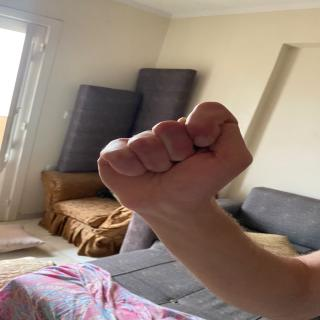FAA: (92, 96, 256, 204)
